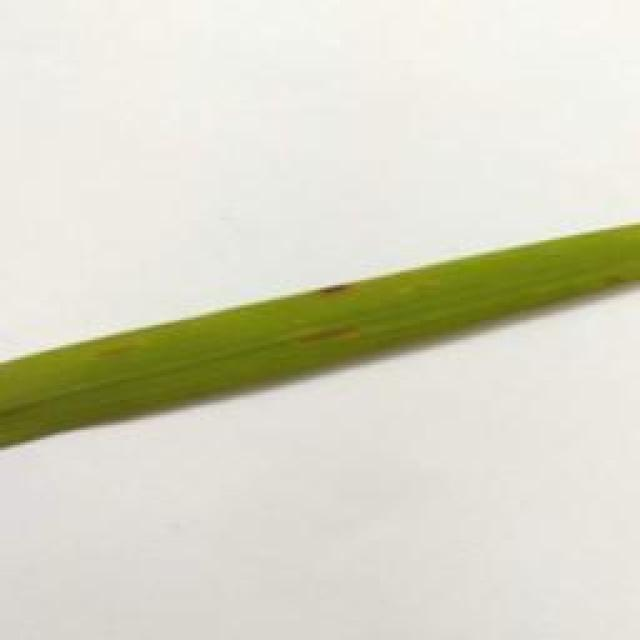Brown_Spot: (576, 266, 636, 304), (291, 325, 378, 345), (313, 280, 365, 302)
